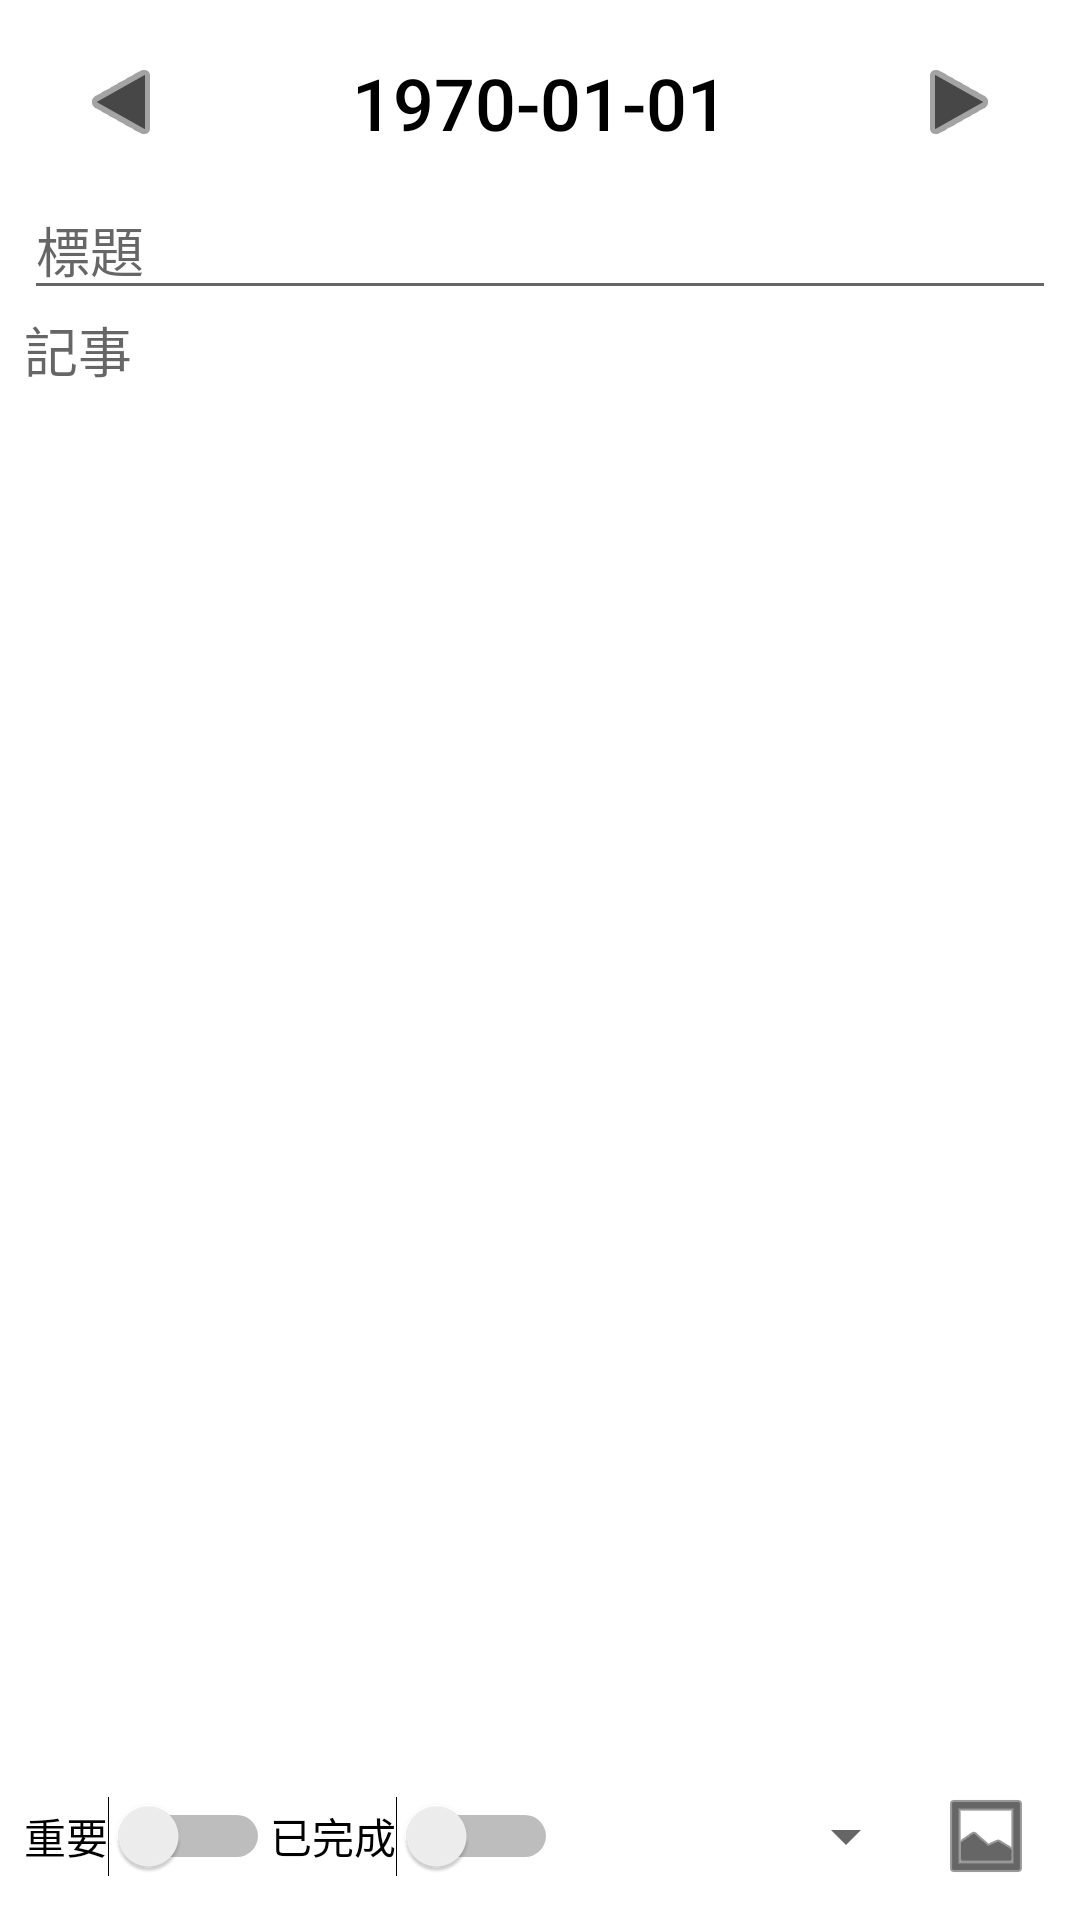

Named icons in this screenshot (1080*1920) and their centers, point (x, y):
gallery: point (986, 1836)
